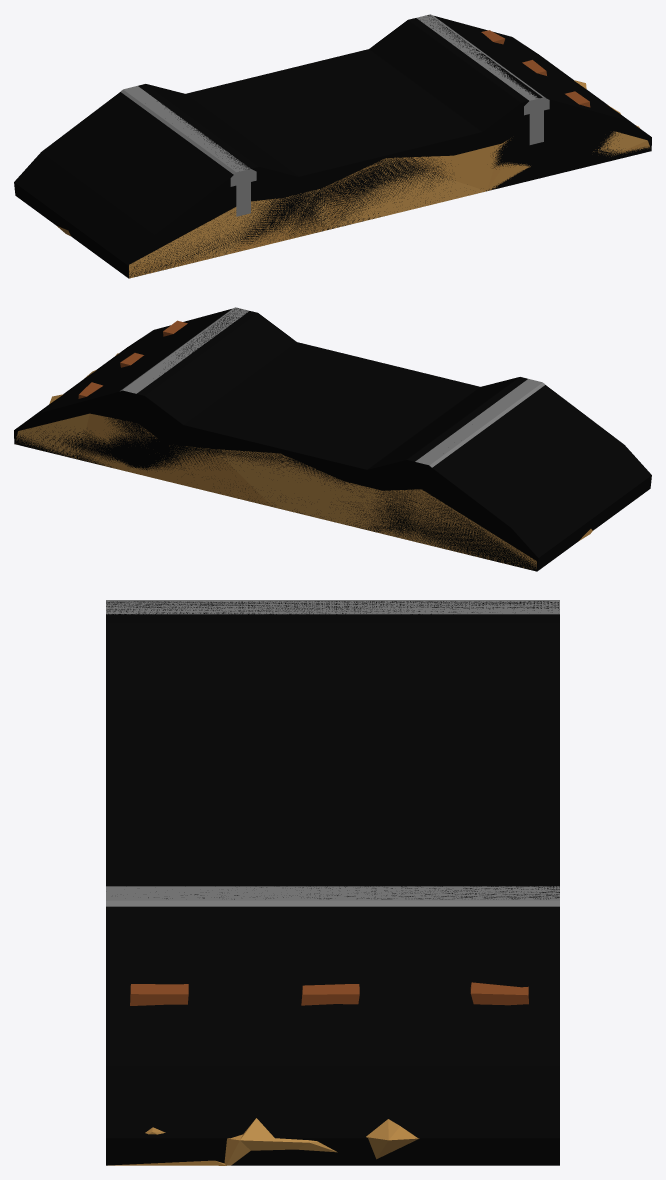
Rendered from Дорога1.fbx.
The picture shows the model from 3 angles, top to bottom: view 1: azimuth 30°, elevation 25°; view 2: azimuth 150°, elevation 25°; view 3: azimuth 270°, elevation 25°; orthographic projection. The views are drawn at different scales.
Parts seen in each view (by area): view 1: Дорога.003, Дорога.002; view 2: Дорога.003, Дорога.002; view 3: Дорога.003, Дорога.002.
Boxes of the visible parts, box(x1,y1,x2,y2) form: Дорога.003: box(14, 15, 651, 278); Дорога.002: box(57, 14, 649, 278); Дорога.003: box(14, 308, 651, 571); Дорога.002: box(16, 307, 592, 569); Дорога.003: box(106, 601, 559, 1165); Дорога.002: box(106, 600, 559, 1165).
Bounding box in the file's own units: 33170 × 4793 × 12314.
